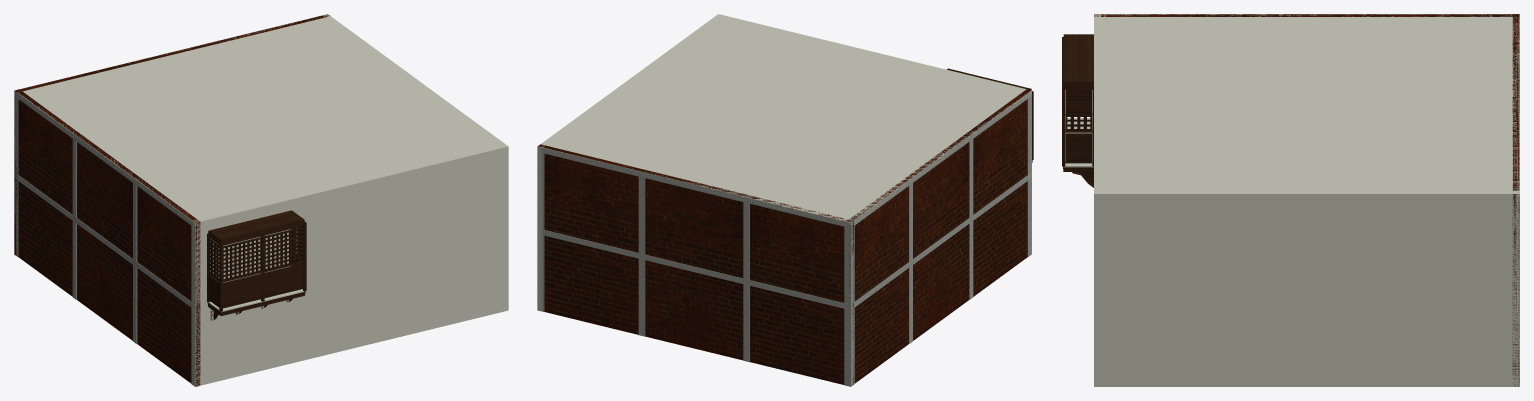
The model's file is building.glb.
The picture shows the model from 3 angles, left to right: view 1: azimuth 30°, elevation 25°; view 2: azimuth 150°, elevation 25°; view 3: azimuth 270°, elevation 25°; orthographic projection. The views are drawn at different scales.
Visible parts, largest first — view 1: roof/house:0/roof_slab#0001, house:0/edge0/z0/house:0/edge0/z0/wall_0_0, house:0/edge3/z0/house:0/edge3/z0/wall_0_0, balcony/sample/balcony_cover#0001, house:0/edge2/z0/house:0/edge2/z0/wall_0_0, house:0/edge3/z0/house:0/edge3/z0/beam_0_0, balcony/sample/balcony_fretwork#0003, balcony/sample/balcony_fretwork#0002, house:0/edge3/z0/house:0/edge3/z0/beam_1_0, house:0/edge1/z0/house:0/edge1/z0/wall_0_0, balcony/sample/balcony_panel#0003, balcony/sample/balcony_panel#0002 (+1 smaller); view 2: roof/house:0/roof_slab#0001, house:0/edge2/z0/house:0/edge2/z0/wall_0_0, house:0/edge3/z0/house:0/edge3/z0/wall_0_0, house:0/edge1/z0/house:0/edge1/z0/wall_0_0, house:0/edge2/z0/house:0/edge2/z0/beam_0_0, house:0/edge2/z0/house:0/edge2/z0/beam_1_0, house:0/edge3/z0/house:0/edge3/z0/beam_0_0, house:0/edge0/z0/house:0/edge0/z0/wall_0_0, house:0/edge3/z0/house:0/edge3/z0/beam_1_0, house:0/edge2/z0/house:0/edge2/z0/column_2_0, house:0/edge2/z0/house:0/edge2/z0/column_1_1, house:0/edge2/z0/house:0/edge2/z0/column_2_1 (+3 smaller); view 3: house:0/edge1/z0/house:0/edge1/z0/wall_0_0, roof/house:0/roof_slab#0001, house:0/edge0/z0/house:0/edge0/z0/wall_0_0, house:0/edge2/z0/house:0/edge2/z0/wall_0_0, balcony/sample/balcony_cover#0001, house:0/edge3/z0/house:0/edge3/z0/wall_0_0, balcony/sample/balcony_fretwork#0004, balcony/sample/balcony_panel#0004, balcony/sample/balcony_platform#0001.
Boxes of the visible parts, <box> form: roof/house:0/roof_slab#0001: <box>16,15,507,225</box>; house:0/edge0/z0/house:0/edge0/z0/wall_0_0: <box>192,144,508,386</box>; house:0/edge3/z0/house:0/edge3/z0/wall_0_0: <box>17,89,200,386</box>; balcony/sample/balcony_cover#0001: <box>208,210,304,242</box>; house:0/edge2/z0/house:0/edge2/z0/wall_0_0: <box>14,14,329,255</box>; house:0/edge3/z0/house:0/edge3/z0/beam_0_0: <box>14,173,195,309</box>; balcony/sample/balcony_fretwork#0003: <box>264,228,303,269</box>; balcony/sample/balcony_fretwork#0002: <box>223,238,261,279</box>; house:0/edge3/z0/house:0/edge3/z0/beam_1_0: <box>14,91,195,228</box>; house:0/edge1/z0/house:0/edge1/z0/wall_0_0: <box>323,14,508,311</box>; balcony/sample/balcony_panel#0003: <box>264,263,303,297</box>; balcony/sample/balcony_panel#0002: <box>223,273,261,308</box>; roof/house:0/roof_slab#0001: <box>540,14,1031,225</box>; house:0/edge2/z0/house:0/edge2/z0/wall_0_0: <box>538,144,853,384</box>; house:0/edge3/z0/house:0/edge3/z0/wall_0_0: <box>846,89,1030,383</box>; house:0/edge1/z0/house:0/edge1/z0/wall_0_0: <box>537,14,721,311</box>; house:0/edge2/z0/house:0/edge2/z0/beam_0_0: <box>542,230,851,310</box>; house:0/edge2/z0/house:0/edge2/z0/beam_1_0: <box>538,146,851,228</box>; house:0/edge3/z0/house:0/edge3/z0/beam_0_0: <box>850,172,1031,309</box>; house:0/edge0/z0/house:0/edge0/z0/wall_0_0: <box>716,14,1031,253</box>; house:0/edge3/z0/house:0/edge3/z0/beam_1_0: <box>850,90,1031,227</box>; house:0/edge2/z0/house:0/edge2/z0/column_2_0: <box>638,177,645,254</box>; house:0/edge2/z0/house:0/edge2/z0/column_1_1: <box>844,227,851,304</box>; house:0/edge2/z0/house:0/edge2/z0/column_2_1: <box>638,259,645,336</box>; house:0/edge1/z0/house:0/edge1/z0/wall_0_0: <box>1094,191,1519,386</box>; roof/house:0/roof_slab#0001: <box>1094,14,1519,198</box>; house:0/edge0/z0/house:0/edge0/z0/wall_0_0: <box>1094,14,1100,386</box>; house:0/edge2/z0/house:0/edge2/z0/wall_0_0: <box>1512,14,1519,386</box>; balcony/sample/balcony_cover#0001: <box>1063,34,1093,85</box>; house:0/edge3/z0/house:0/edge3/z0/wall_0_0: <box>1094,14,1519,16</box>; balcony/sample/balcony_fretwork#0004: <box>1065,91,1091,130</box>; balcony/sample/balcony_panel#0004: <box>1065,133,1091,163</box>; balcony/sample/balcony_platform#0001: <box>1064,118,1093,167</box>.
Bounding box in the file's own units: 12 × 6 × 12.89.
4 materials, 2 textured.
